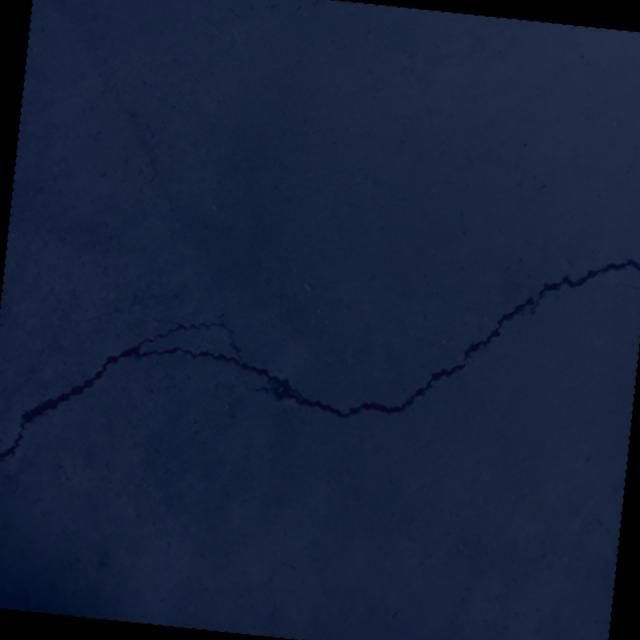crack: (0, 192, 640, 533), (33, 296, 130, 378), (605, 279, 640, 291)
